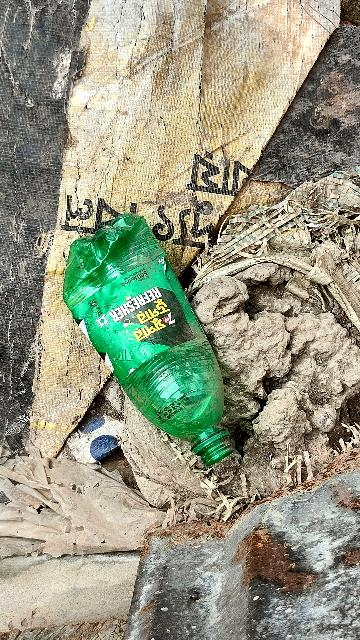bottle: (33, 193, 275, 500)
